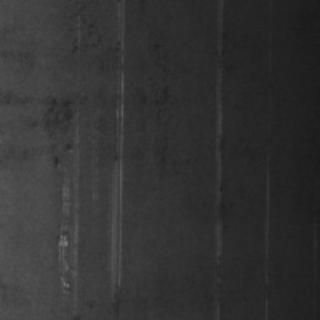scratches: (206, 12, 224, 296), (53, 144, 83, 306), (104, 58, 124, 292)
